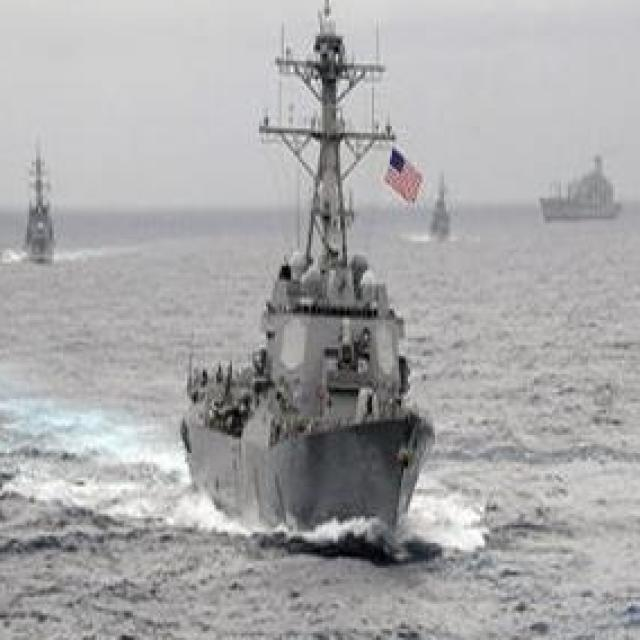navalvessels: (175, 0, 430, 536), (536, 150, 622, 223), (17, 147, 68, 260), (419, 169, 455, 241)
